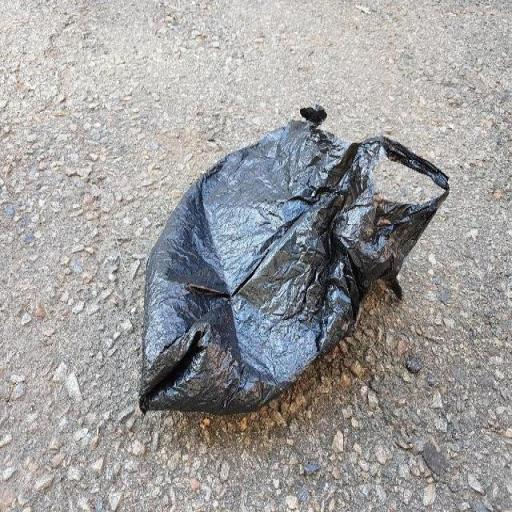plastic-bag: (138, 102, 456, 420)
